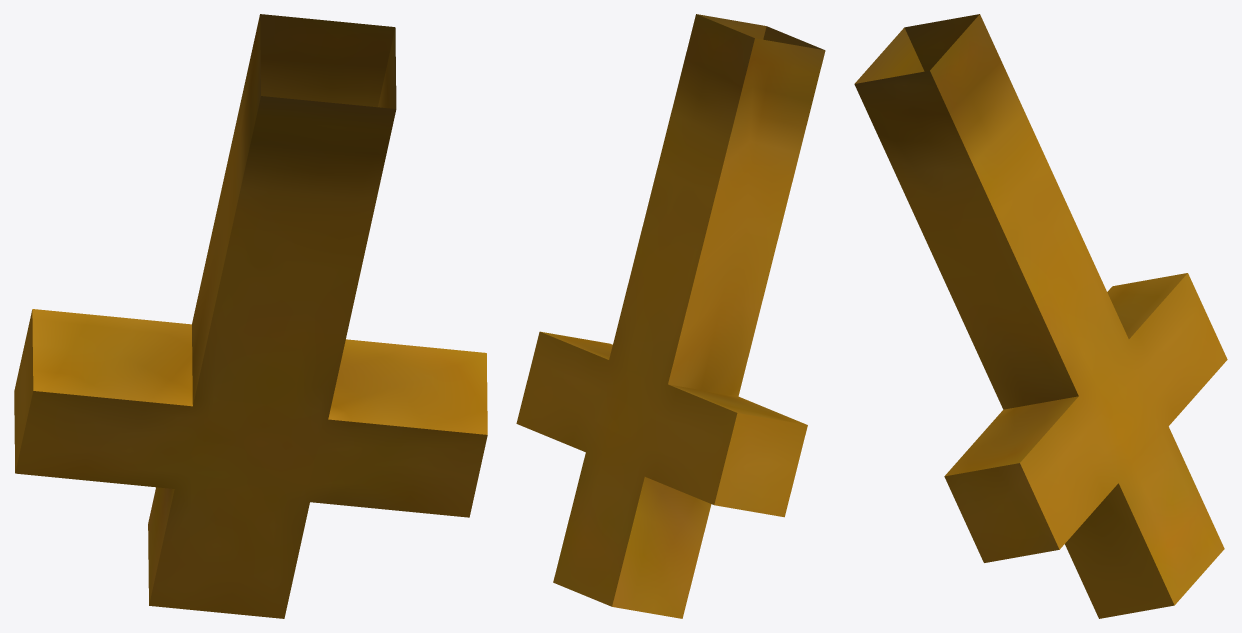
The model's file is cross.obj.
The picture shows the model from 3 angles, left to right: view 1: azimuth 30°, elevation 25°; view 2: azimuth 150°, elevation 25°; view 3: azimuth 270°, elevation 25°; orthographic projection. The views are drawn at different scales.
Visible parts, largest first — view 1: dynamic; view 2: dynamic; view 3: dynamic.
Part boxes in pixels (box(x1,y1,x2,y2)): dynamic: box(14, 14, 487, 618); dynamic: box(516, 14, 825, 618); dynamic: box(854, 14, 1227, 618).
Size of the model in its own units: 22.36 by 36.05 by 21.55.
1 material, 1 textured.
